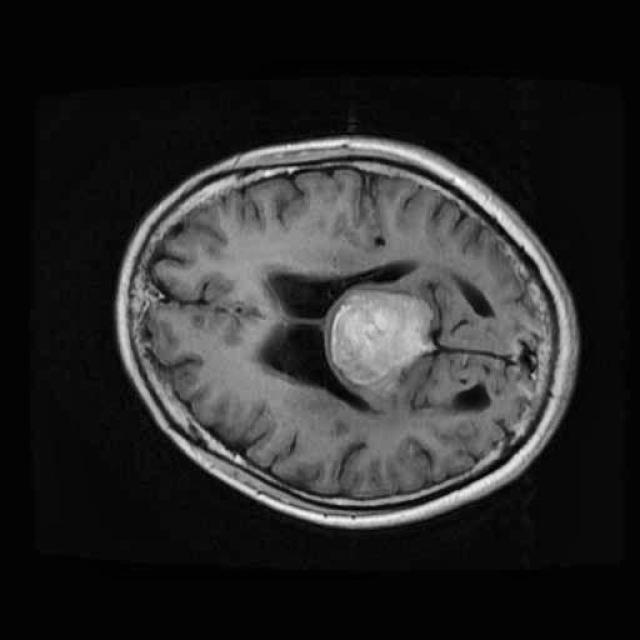Tumor: (311, 268, 449, 405)
